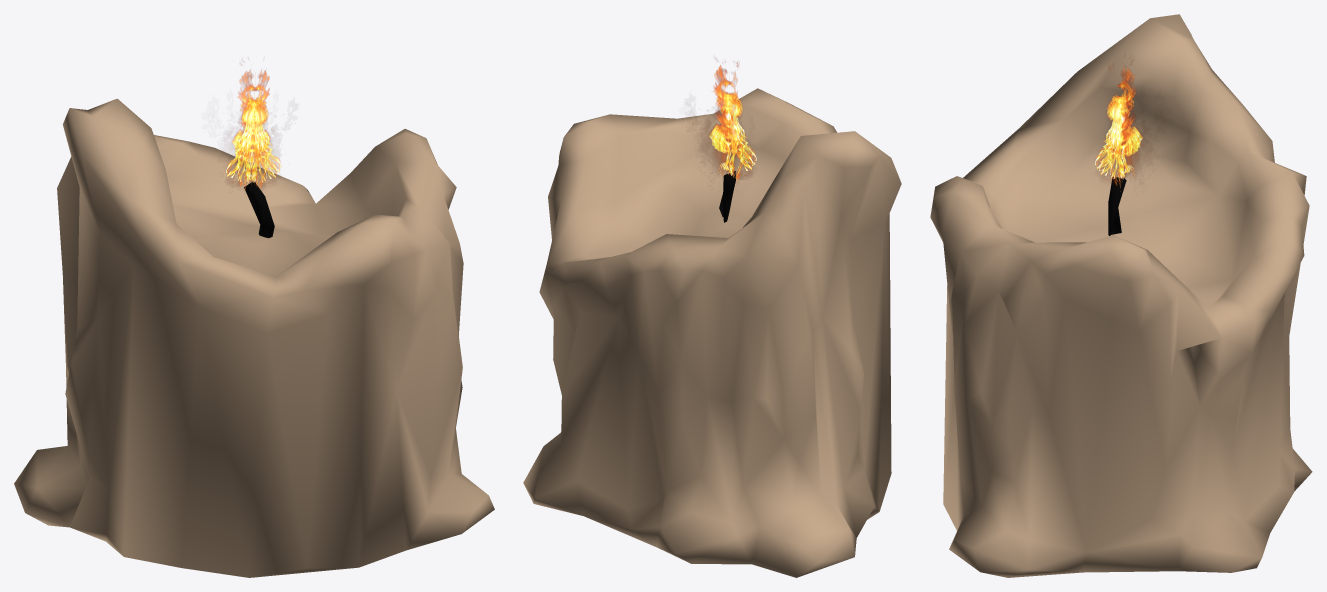
File: candle2.glb
3 views of the same model, side by side, from view 1: azimuth 30°, elevation 25°; view 2: azimuth 150°, elevation 25°; view 3: azimuth 270°, elevation 25° (orthographic). The views are drawn at different scales.
Visible parts, largest first — view 1: candle2; view 2: candle2; view 3: candle2.
Boxes of the visible parts, bbox=[...] form: candle2: bbox=[14, 69, 494, 577]; candle2: bbox=[523, 59, 901, 577]; candle2: bbox=[930, 14, 1312, 577].
Bounding box in the file's own units: 0.2475 × 0.3204 × 0.2343.
Materials: 3 (1 with a texture image).
